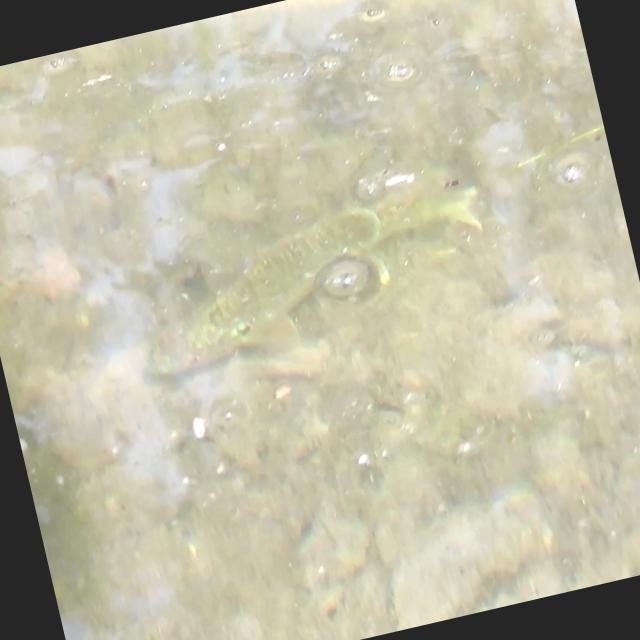Gunes Levregi: (120, 152, 502, 388)
